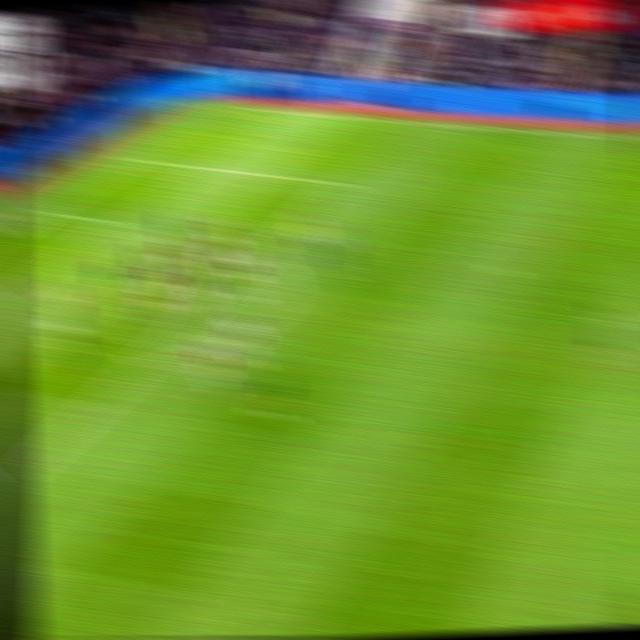bigarea_top_inner: (329, 175, 355, 190)
bigarea_top_outter: (119, 153, 144, 165)
bottom_arc_area_intersection: (128, 353, 160, 373)
corner: (206, 100, 233, 109)
smallarea_top_inner: (103, 213, 132, 229)
smallarea_top_outter: (32, 203, 57, 218)
top_arc_area_intersection: (253, 243, 281, 259)
